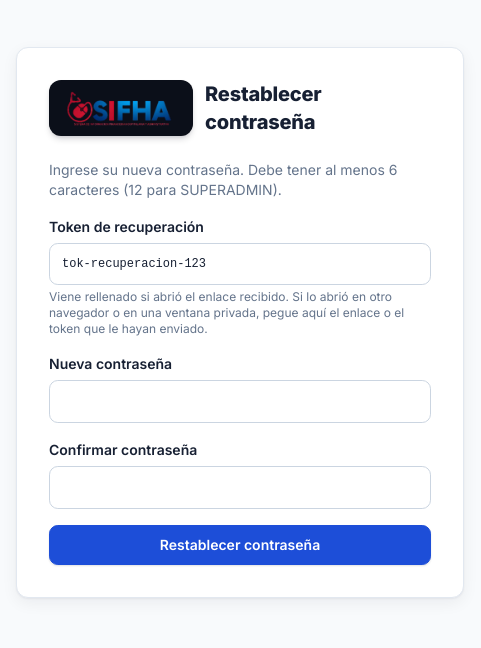
Test: ResetPassword › no descarta el token si el fallo es de validación de la contraseña
Expected: the field labelled "Token de recuperación" holds "tok-recuperacion-123", [49, 242, 431, 284]
Type "NuevaClave123!" into the password field labelled "Nueva contraseña" at (240, 401), box [49, 380, 431, 422]
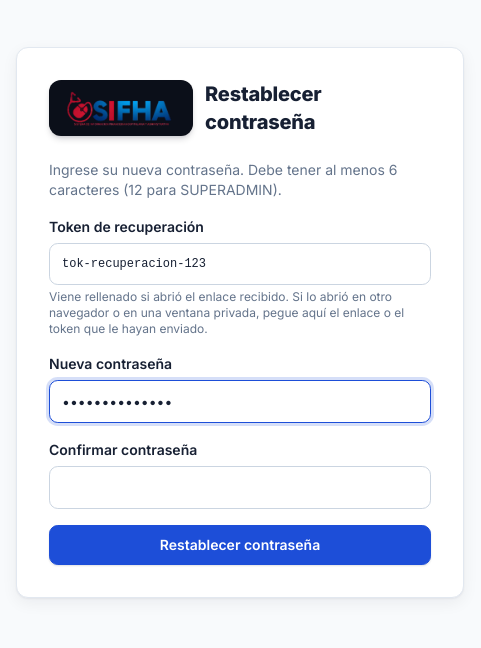
Type "NuevaClave123!" into the password field labelled "Confirmar contraseña" at (240, 487), box [49, 466, 431, 508]
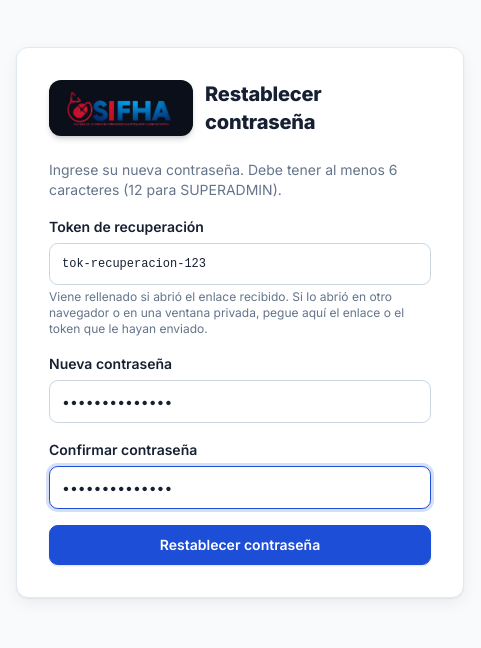
Click the button "Restablecer contraseña" at (240, 544), box [49, 524, 431, 564]
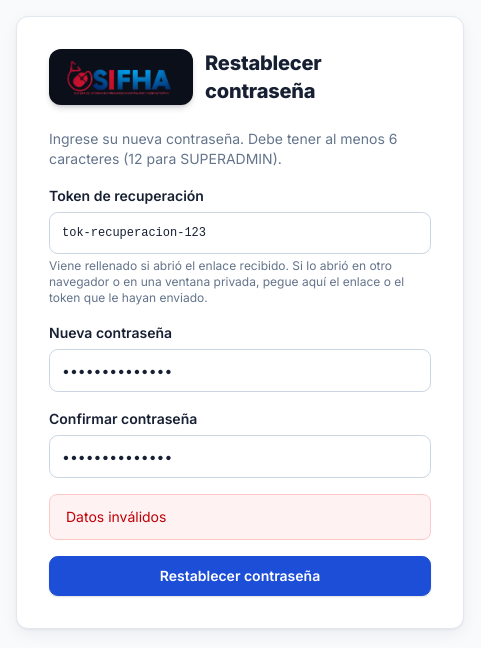
Expected: the field labelled "Token de recuperación" holds "tok-recuperacion-123", [49, 212, 431, 254]
Expected: the text "Datos inválidos" is shown, [49, 494, 431, 540]
